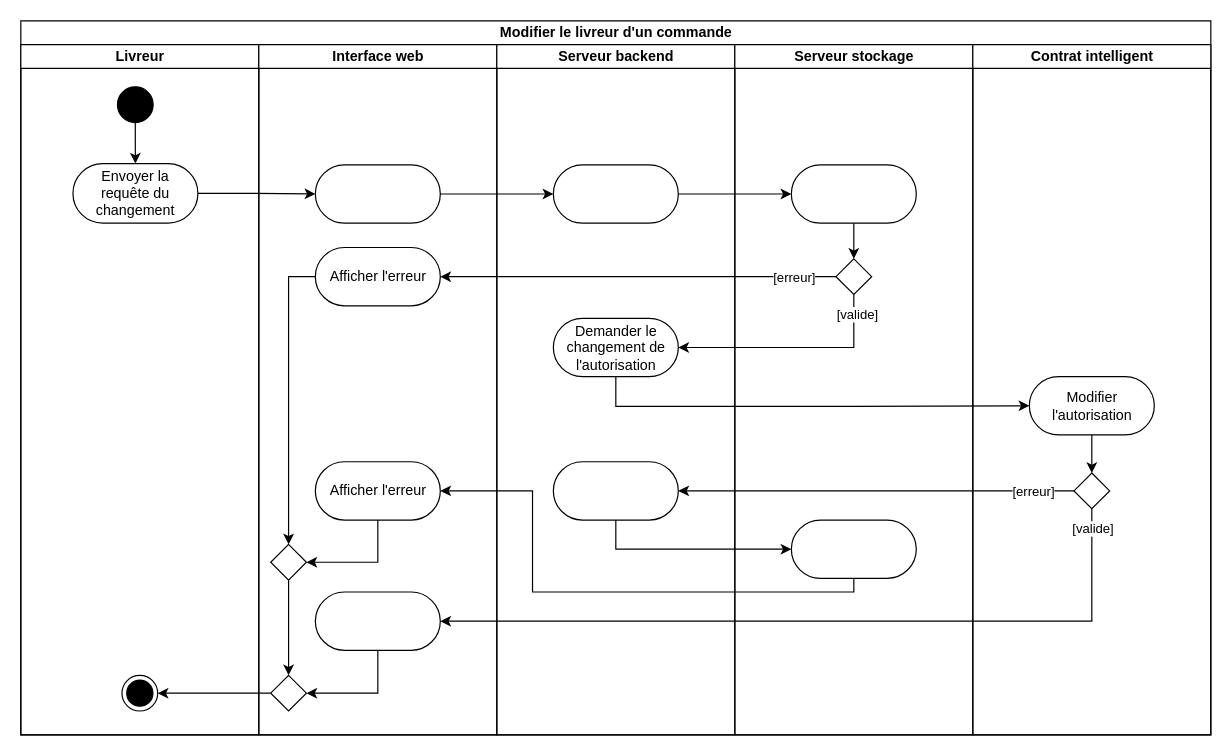
Some shapes in this 1232 by 756 pixel diagram are drawn without their labels. The centre of each missing label's shape, as x and y in pixels:
"Afficher la confirmation" belongs at point (377, 620).
"Annuler la modification du livreur" belongs at point (853, 548).
"Demander l'annulation sur la base" belongs at point (615, 490).
"Demander le changement sur la base" belongs at point (615, 193).
"Modifier le livreur" belongs at point (853, 193).
"Transmettre la requête" belongs at point (377, 193).
